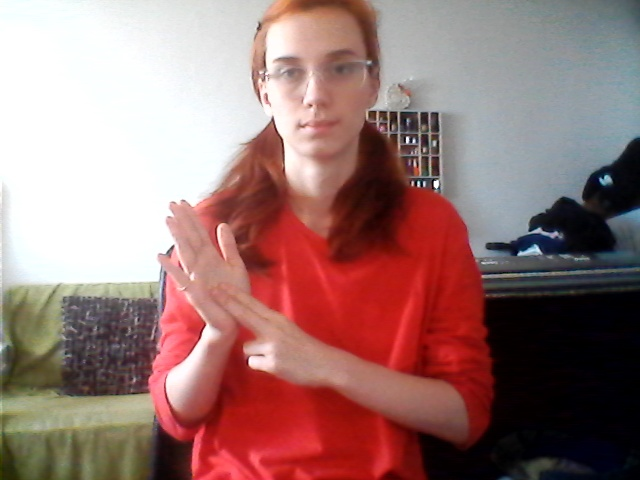n: (157, 198, 318, 391)
